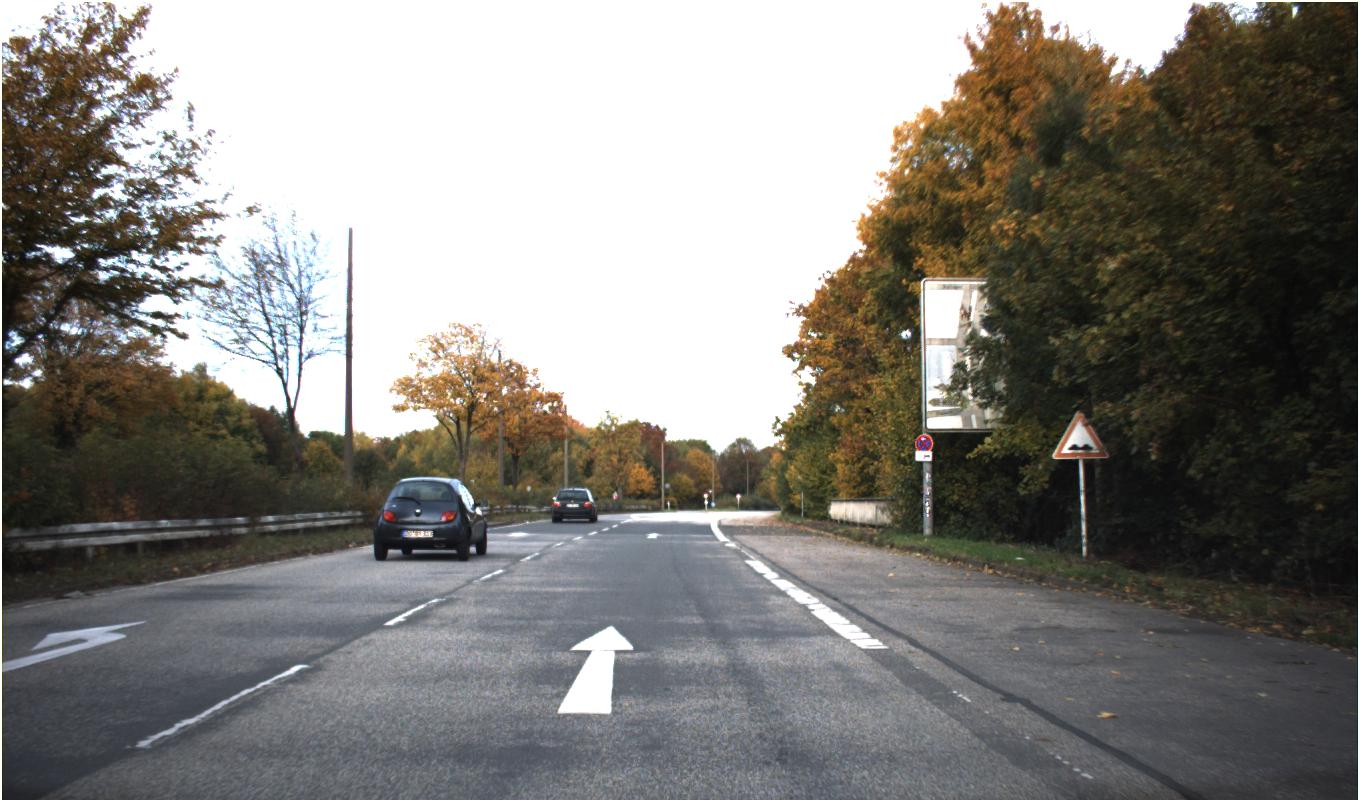danger: (1050, 409, 1109, 460)
